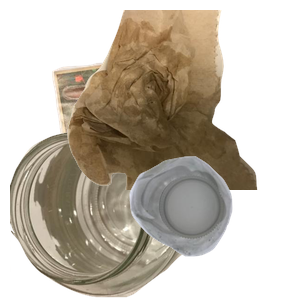glass: (10, 126, 216, 300)
paper: (49, 51, 235, 212)
plastic: (127, 154, 300, 300)
trash: (65, 10, 300, 190)
